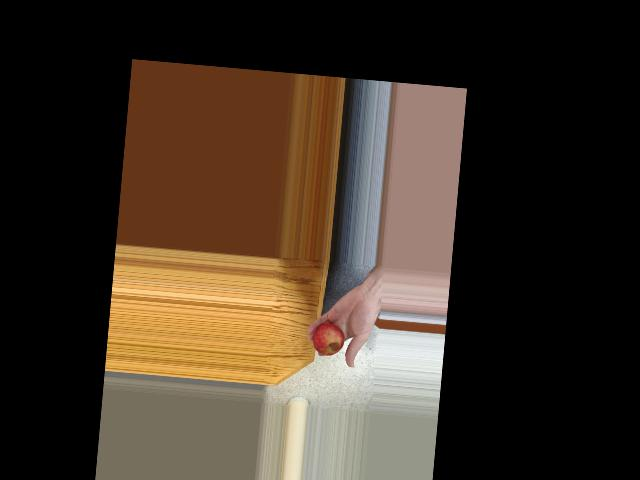apple: (311, 319, 348, 357)
